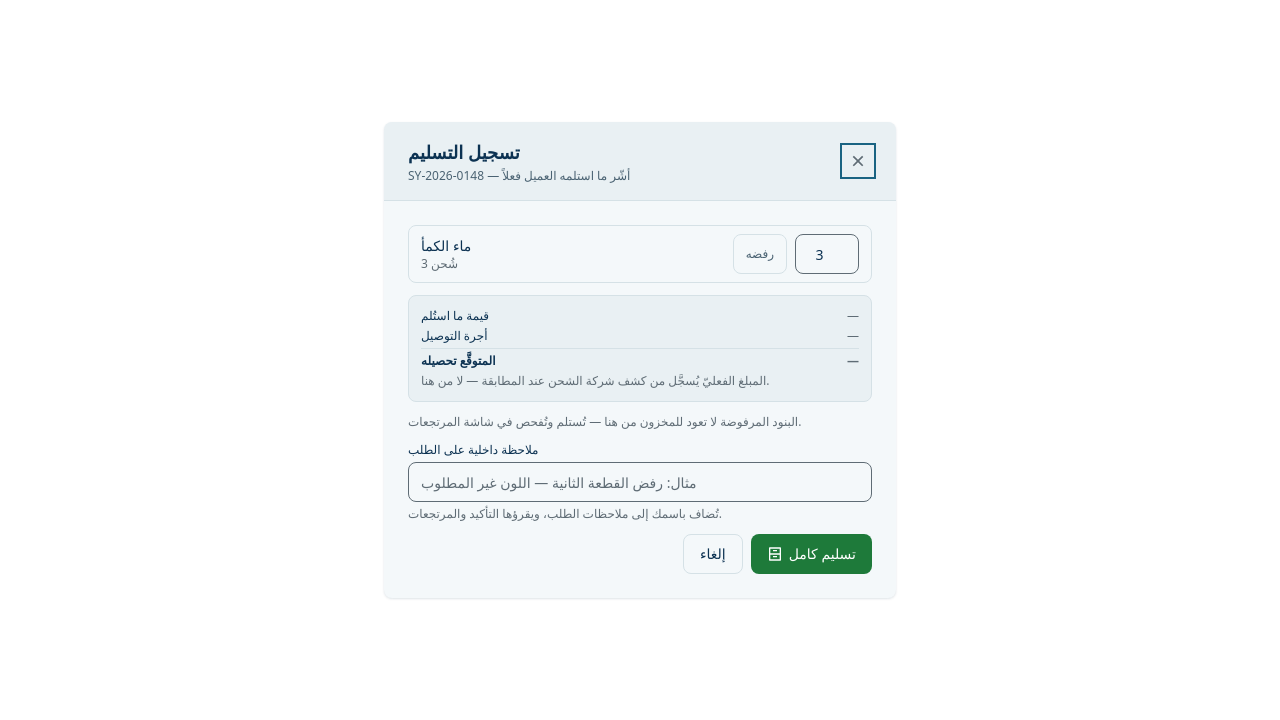
the door names the second settlement it is creating › says nothing on a whole refusal — that is one half, and it is the goods
Check: the number field showing "3" is shown, box [795, 234, 859, 274]
What coordinates should you click on to do the following:
click the button "رفضه"
I would click on:
 (760, 254)
Its box is [733, 234, 787, 274].
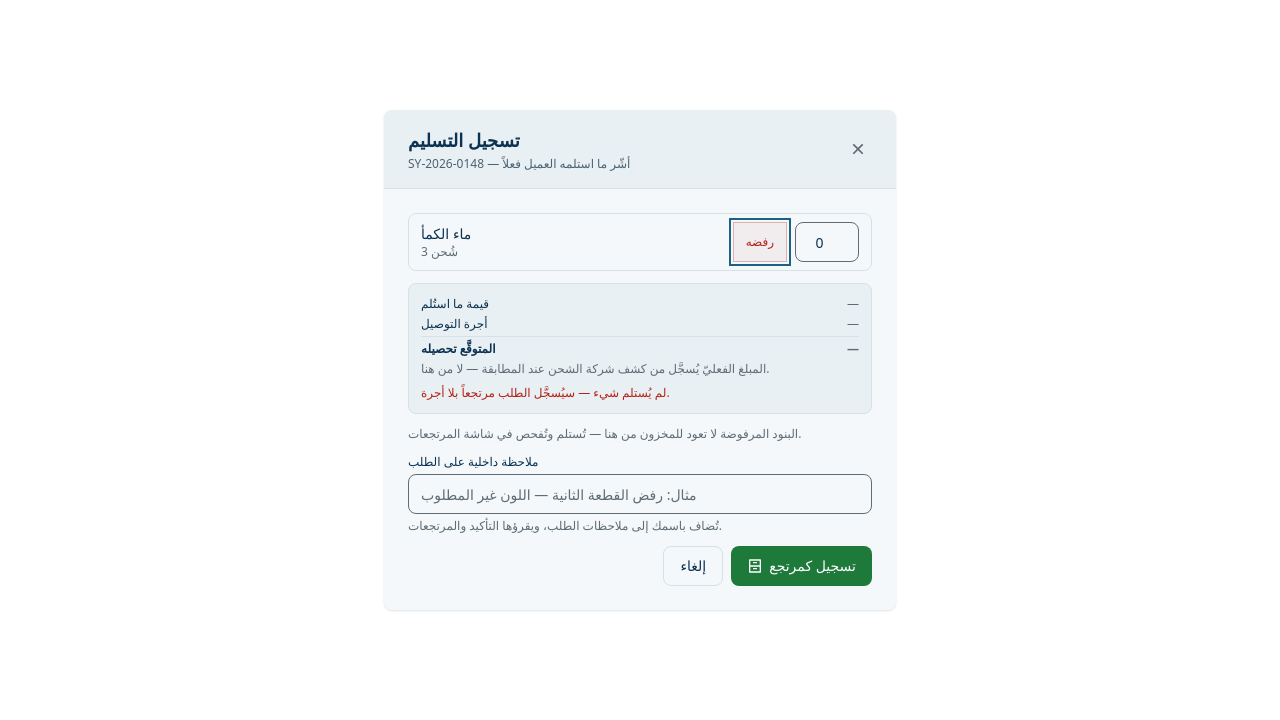
Check: the button "تسجيل كمرتجع" is shown, box [731, 546, 872, 586]
